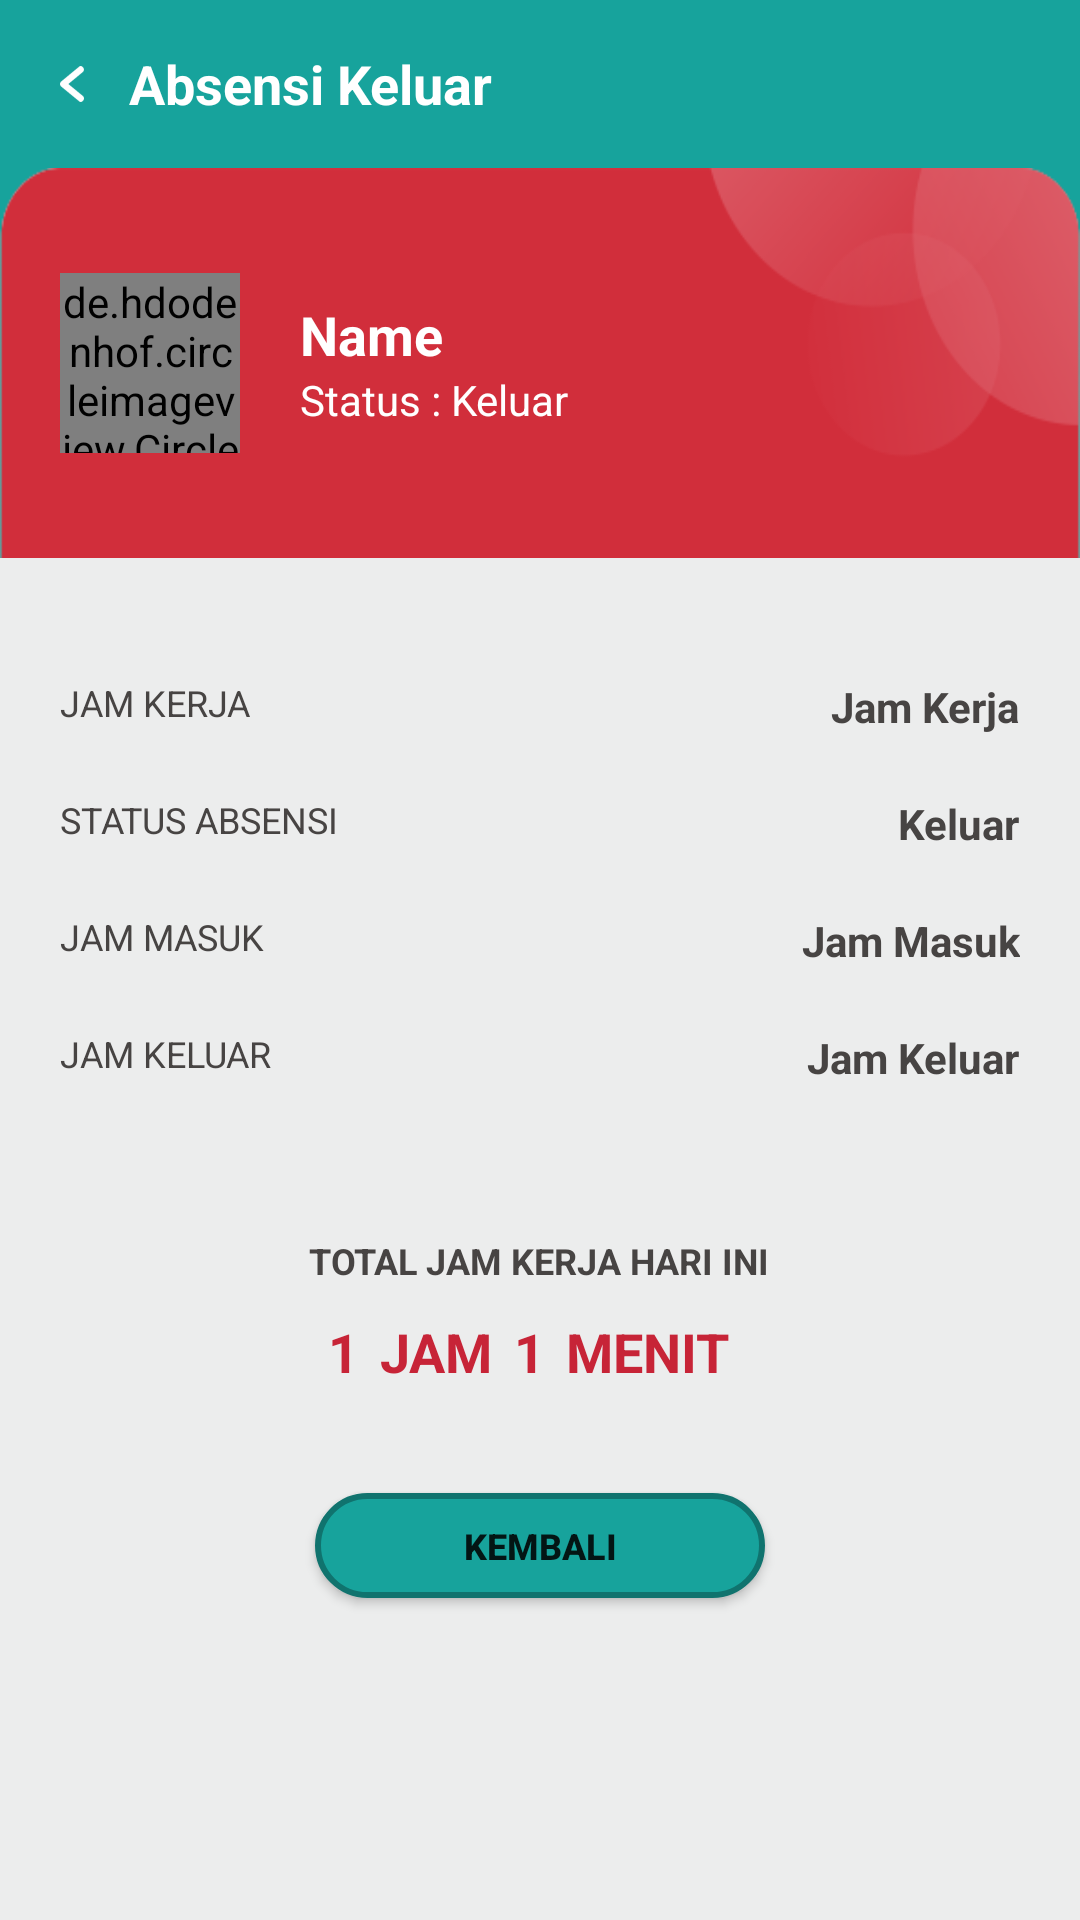

Named icons in this screenshot (1080x1920) and their bounding boxes, (x1, y1, x2, y2):
back: (60, 66, 84, 102)
